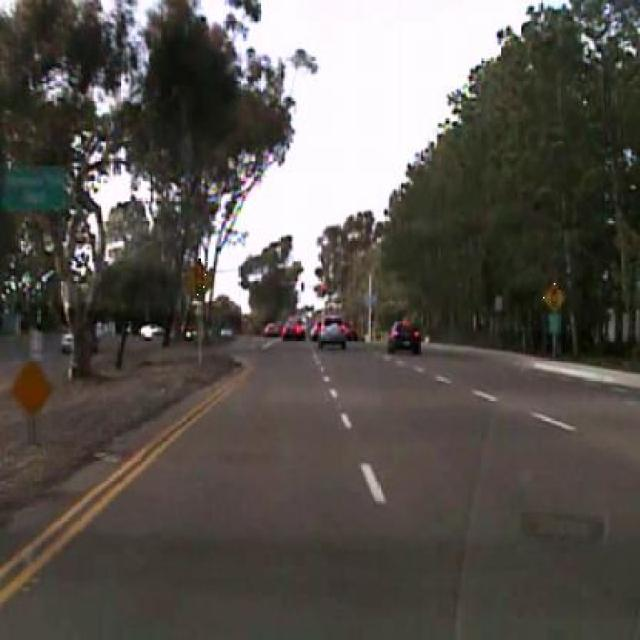signalAhead: (182, 257, 214, 301), (542, 280, 566, 315)
